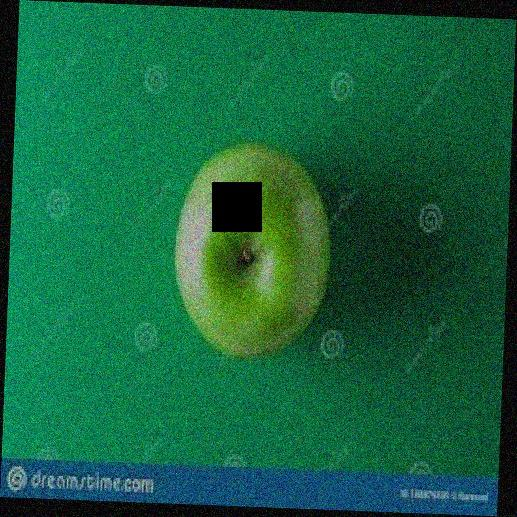green apple: (168, 142, 334, 355)
